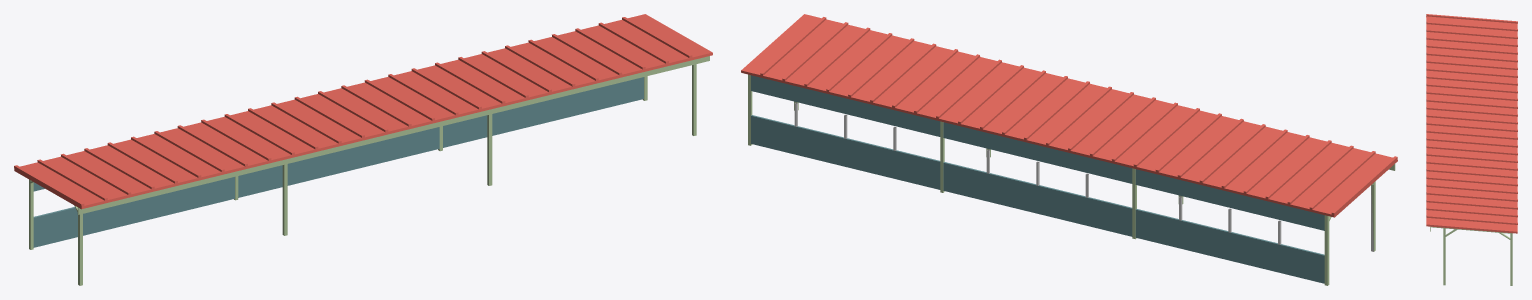
The model's file is 09 Station.FBX.
3 renders of one model, left to right at view 1: azimuth 30°, elevation 25°; view 2: azimuth 150°, elevation 25°; view 3: azimuth 270°, elevation 25°, orthographic. The views are drawn at different scales.
Parts seen in each view (by area): view 1: Station; view 2: Station; view 3: Station.
Boxes of the visible parts, bbox=[...] form: Station: bbox=[14, 14, 712, 285]; Station: bbox=[741, 14, 1397, 285]; Station: bbox=[1426, 14, 1517, 285].
Size of the model in its own units: 8816 by 1263 by 1637.
